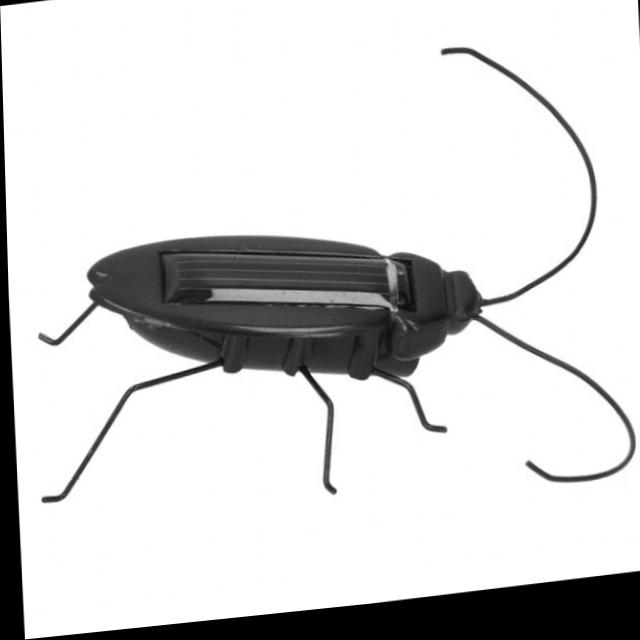Cockroach: (10, 26, 640, 557)
